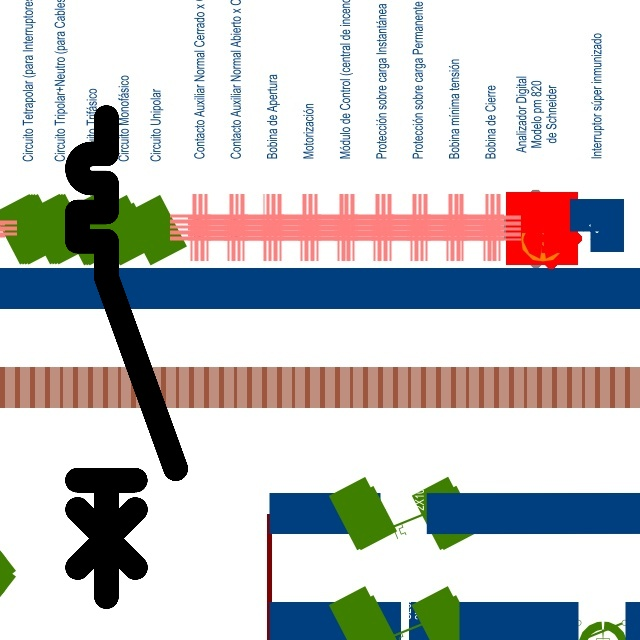interruptor_termomagnetico: (65, 105, 188, 609)
